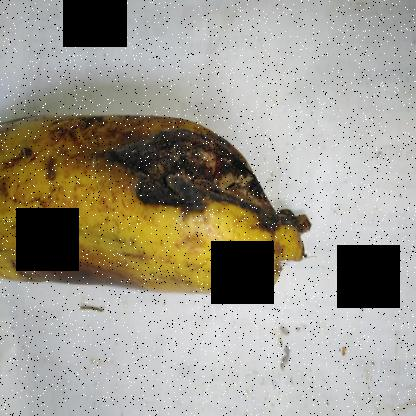ripe: (0, 85, 311, 313)
rotten: (110, 93, 300, 249), (15, 243, 151, 320)
